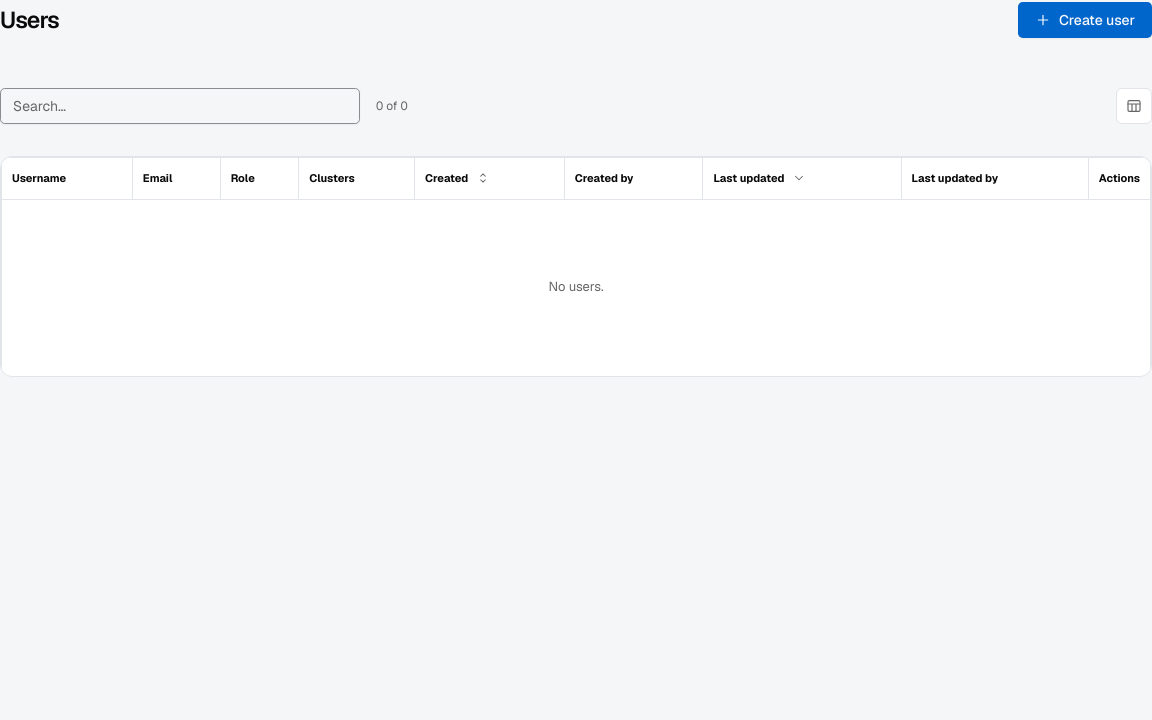
Test: users view › starts with a fresh form after Close
The width and height of the screenshot is (1152, 720).
Click the button "Create user" at (1085, 20), box [1018,2,1151,38]
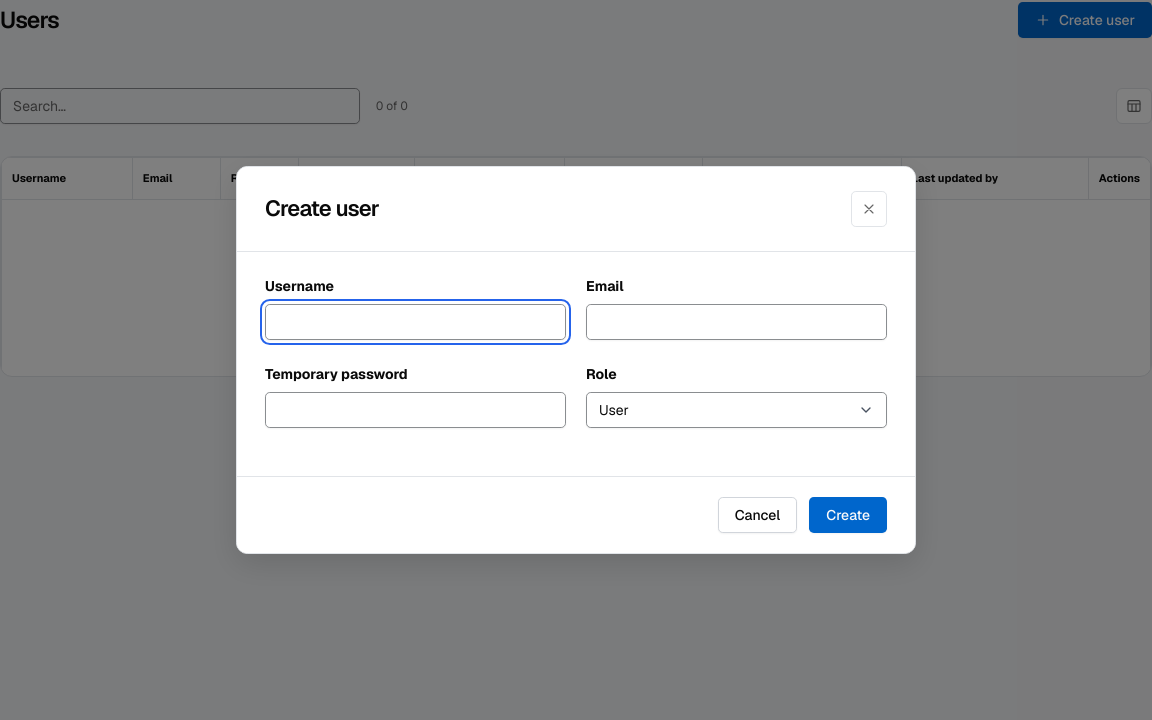
Type "researcher" into the field labelled "Username" at (416, 322), box [265,304,566,340]
Type "researcher@example.test" into the field labelled "Email" at (736, 322), box [586,304,887,340]
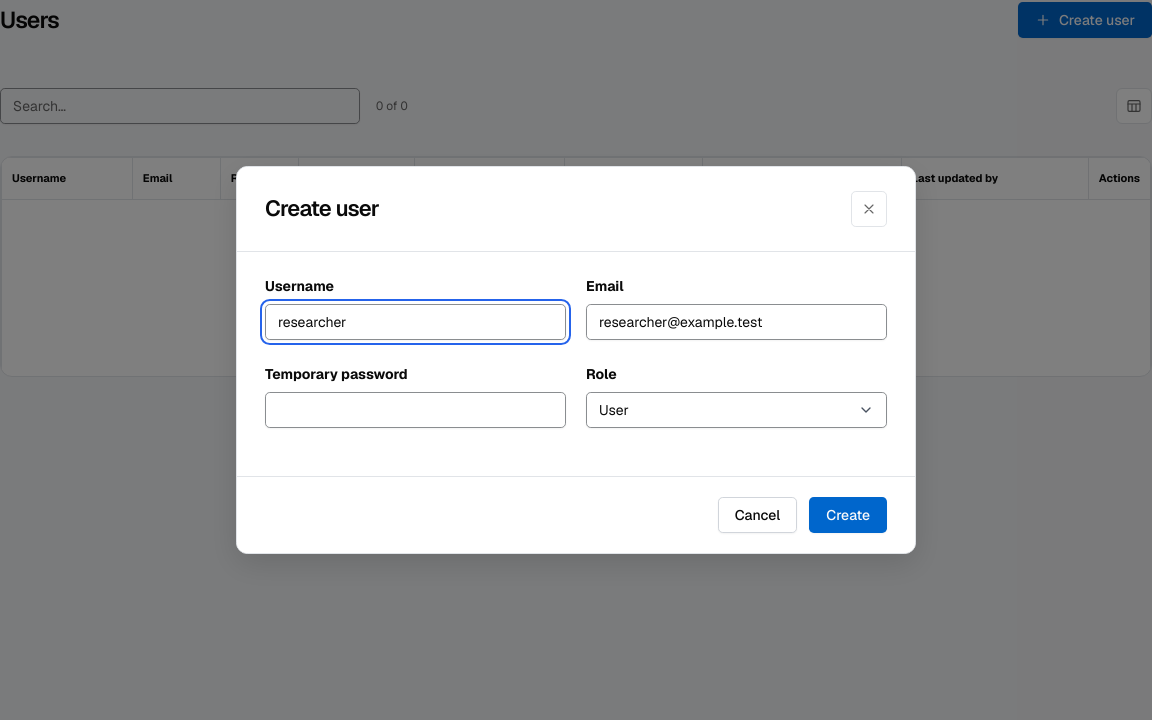
Type "temporary-test-password" into the password field labelled "Temporary password" at (416, 410), box [265,392,566,428]
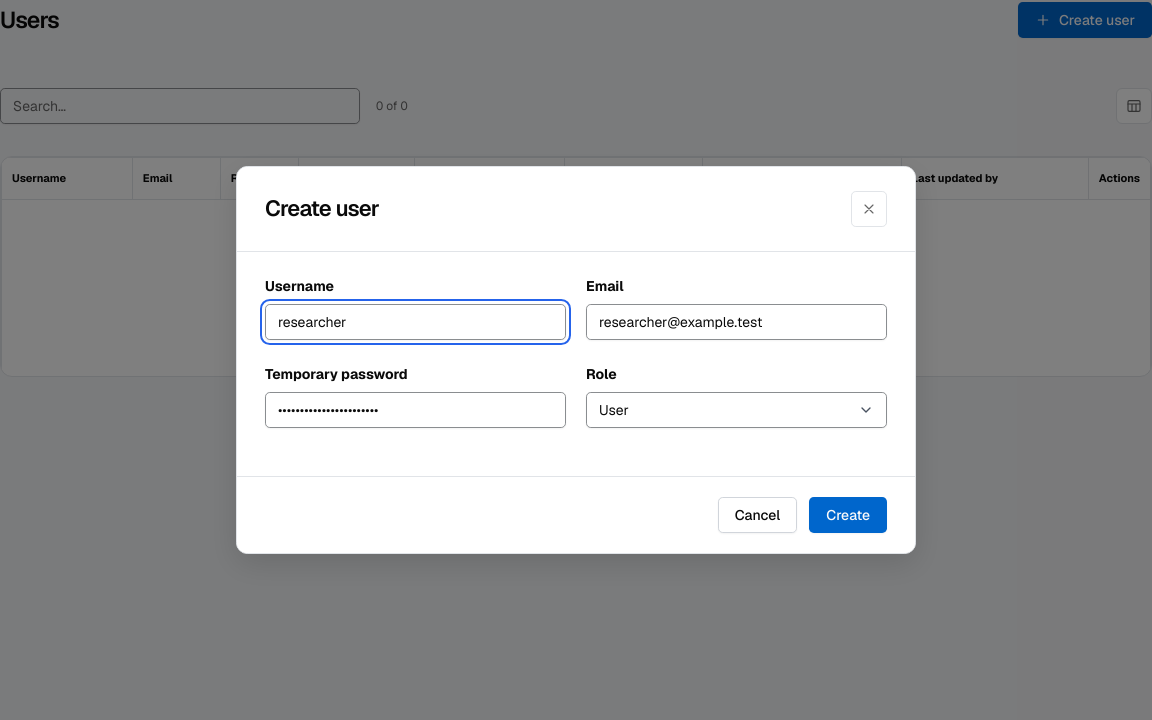
Select "Administrator" in the dropdown labelled "Role" at (736, 410), box [586,392,887,428]
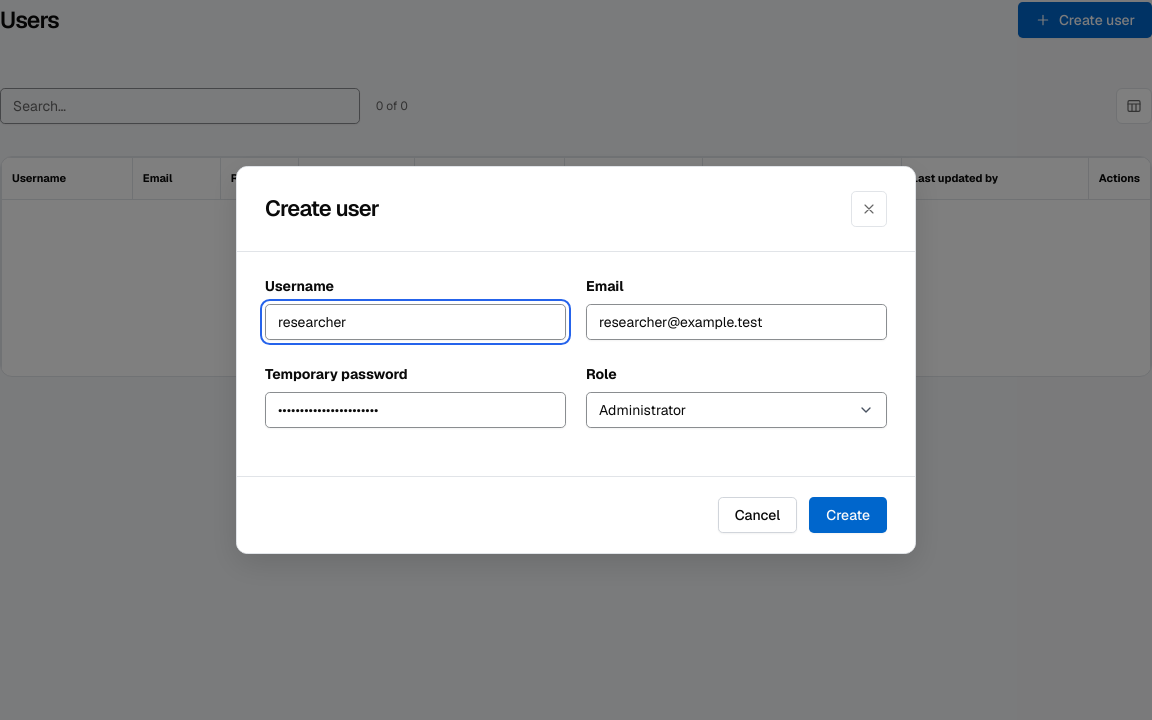
Click the button named "Close" at (869, 209), box [851,191,887,227]
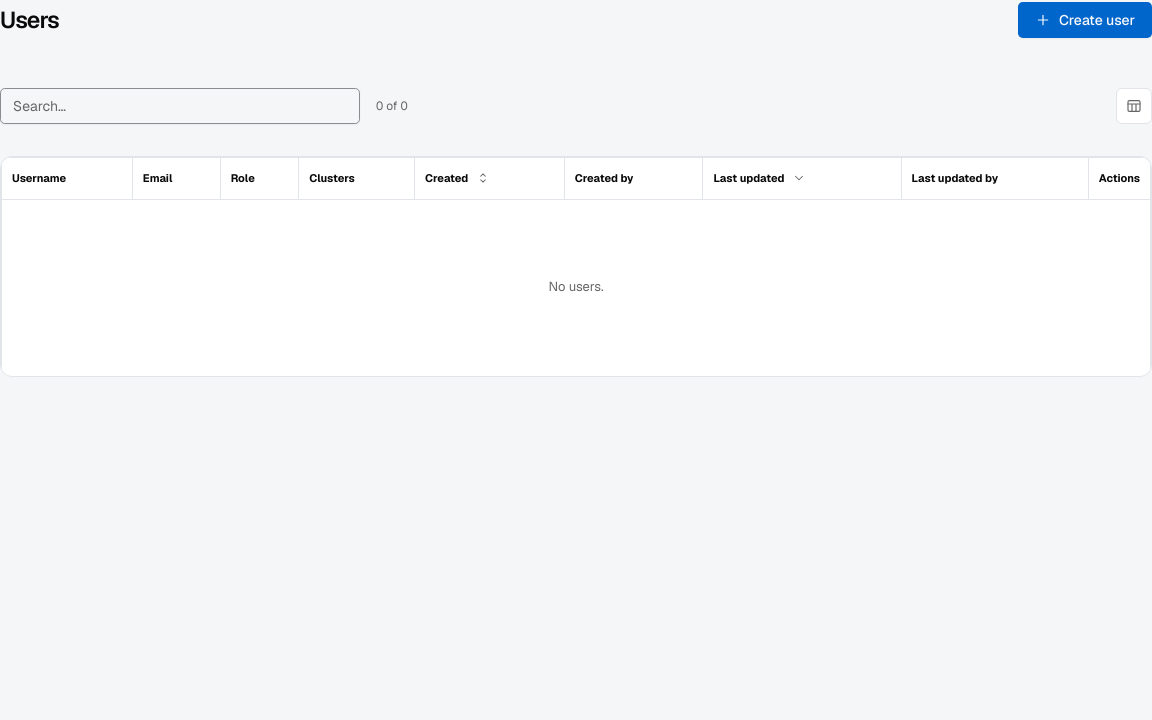
Expected: the dialog is gone
Click the button "Create user" at (1085, 20), box [1018,2,1151,38]
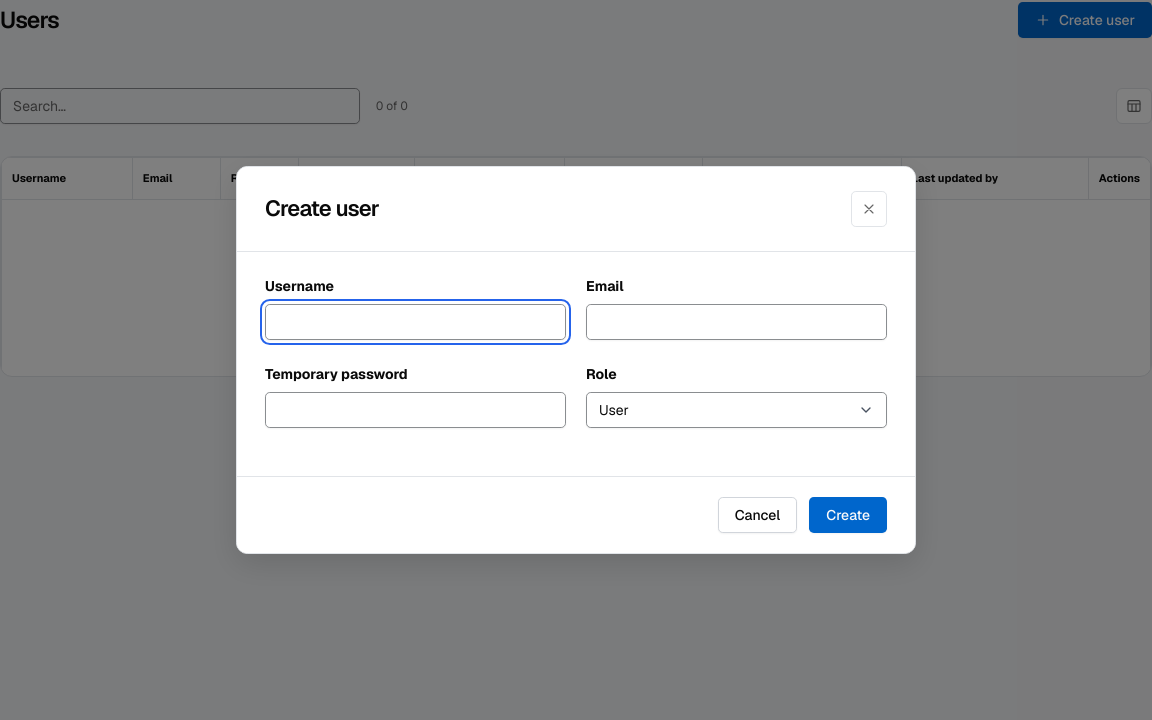
Expected: the field labelled "Username" is empty, [265,304,566,340]
Expected: the dropdown labelled "Role" shows "User", [586,392,887,428]
